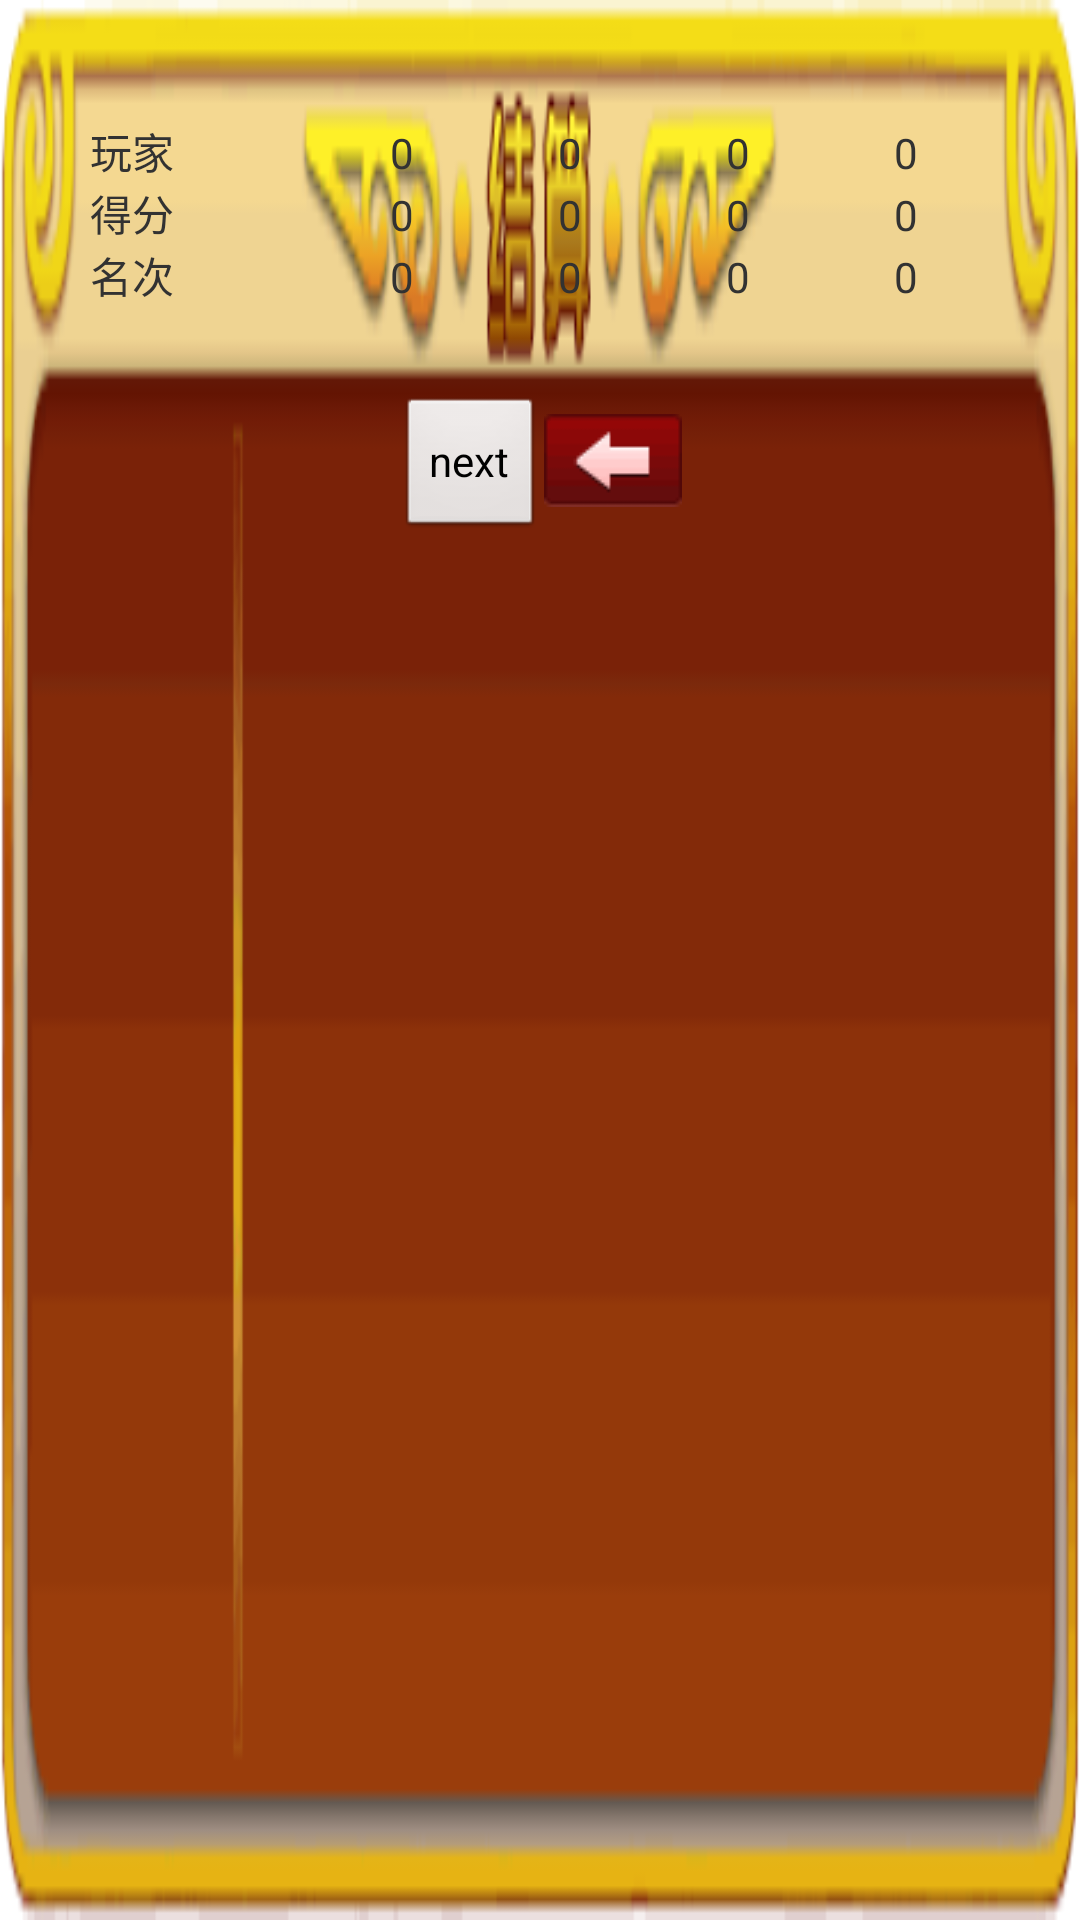

Point at icon controls on the screen. Image size 1080×1920, points as (x=x, y=y).
ranking return: (x=613, y=460)
